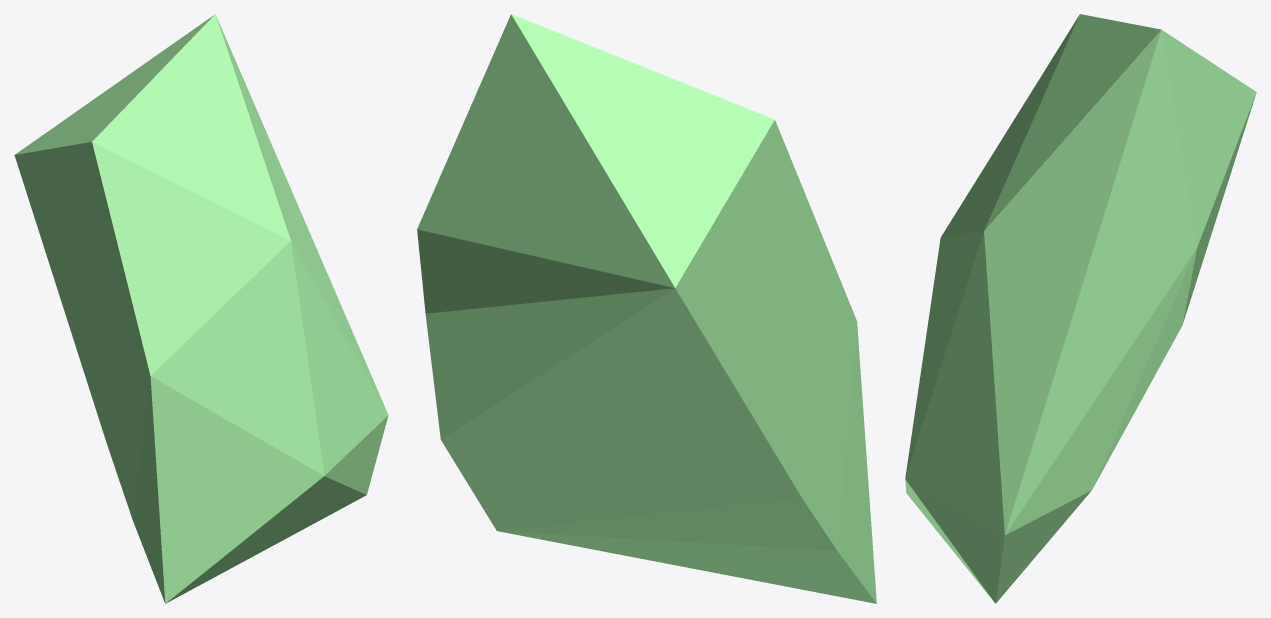
Rendered from xarm7_with_gripper_LR4_R560_link7_respondable_coll_23.dae.
3 views of the same model, side by side, from view 1: azimuth 30°, elevation 25°; view 2: azimuth 150°, elevation 25°; view 3: azimuth 270°, elevation 25° (orthographic). The views are drawn at different scales.
Visible parts, largest first — view 1: Node_000001B88F9E0D70; view 2: Node_000001B88F9E0D70; view 3: Node_000001B88F9E0D70.
Boxes of the visible parts, x1,y1,x2,y2 form: Node_000001B88F9E0D70: (14,14,388,603); Node_000001B88F9E0D70: (417,14,876,603); Node_000001B88F9E0D70: (905,14,1256,603).
Size of the model in its own units: 0.00998 by 0.0169 by 0.00968.
